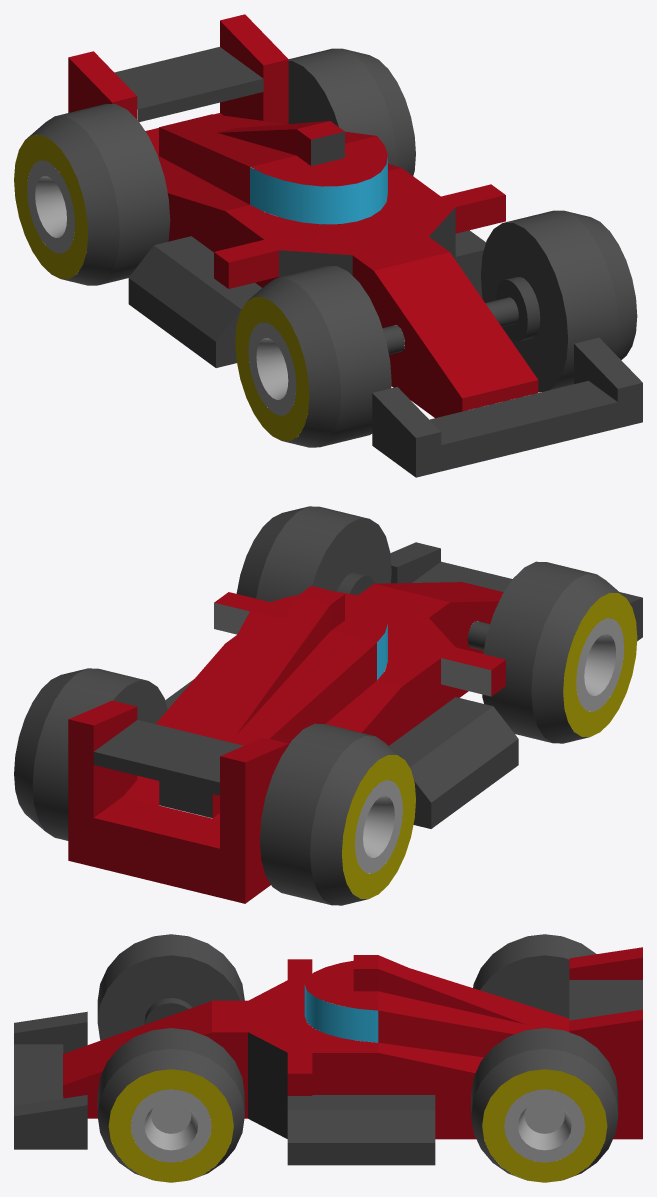
Rendered from car_lowpoly.glb.
The picture shows the model from 3 angles, top to bottom: view 1: azimuth 30°, elevation 25°; view 2: azimuth 150°, elevation 25°; view 3: azimuth 270°, elevation 25°; orthographic projection. The views are drawn at different scales.
Visible parts, largest first — view 1: body.005, wheel_frontRight.005, wheel_backRight.005, wheel_frontLeft.005, wheel_backLeft.005; view 2: body.005, wheel_backRight.005, wheel_frontRight.005, wheel_backLeft.005, wheel_frontLeft.005; view 3: body.005, wheel_frontLeft.005, wheel_backLeft.005, wheel_frontRight.005, wheel_backRight.005.
Part boxes in pixels (left/top/right/bottom): body.005: left=68, top=14, right=642, bottom=477; wheel_frontRight.005: left=235, top=266, right=391, bottom=447; wheel_backRight.005: left=14, top=104, right=170, bottom=285; wheel_frontLeft.005: left=481, top=210, right=637, bottom=392; wheel_backLeft.005: left=288, top=48, right=415, bottom=224; body.005: left=68, top=542, right=642, bottom=903; wheel_backRight.005: left=259, top=723, right=415, bottom=905; wheel_frontRight.005: left=482, top=561, right=637, bottom=743; wheel_backLeft.005: left=14, top=668, right=167, bottom=840; wheel_frontLeft.005: left=236, top=506, right=391, bottom=602; body.005: left=14, top=947, right=642, bottom=1165; wheel_frontLeft.005: left=97, top=1028, right=244, bottom=1182; wheel_backLeft.005: left=471, top=1028, right=618, bottom=1182; wheel_frontRight.005: left=97, top=934, right=244, bottom=1040; wheel_backRight.005: left=473, top=934, right=596, bottom=1018.
Bounding box in the file's own units: 1.3 × 0.7329 × 2.56.
